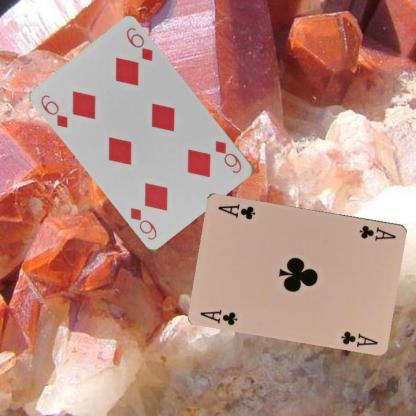6d: (212, 138, 244, 176), (38, 92, 70, 130)
Ac: (198, 306, 240, 326), (356, 223, 398, 242)
